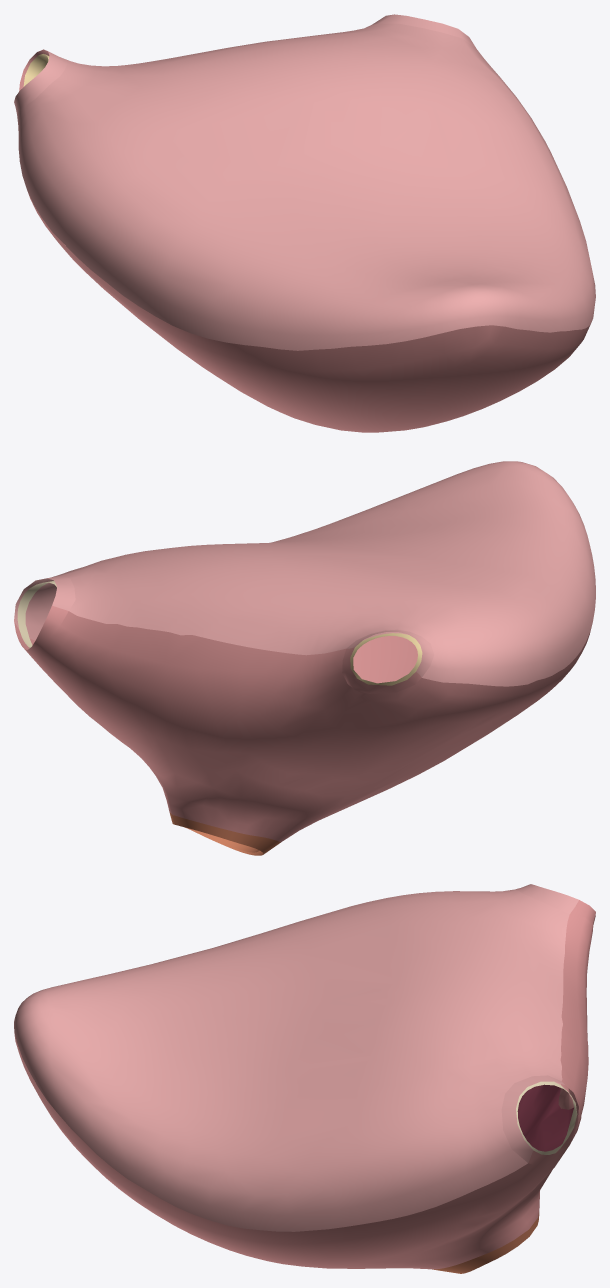
Rendered from bexiga.glb.
The picture shows the model from 3 angles, top to bottom: view 1: azimuth 30°, elevation 25°; view 2: azimuth 150°, elevation 25°; view 3: azimuth 270°, elevation 25°; orthographic projection. The views are drawn at different scales.
Visible parts, largest first — view 1: VH_M_fundus_of_urinary_bladder_dome, VH_M_fundus_of_urinary_bladder_base1; view 2: VH_M_fundus_of_urinary_bladder_dome, VH_M_fundus_of_urinary_bladder_base1, VH_M_urinary_bladder_neck_smooth_muscle, VH_M_ureteral_orifice_R, VH_M_ureteral_orifice_L; view 3: VH_M_fundus_of_urinary_bladder_dome, VH_M_fundus_of_urinary_bladder_base1, VH_M_trigone_of_urinary_bladder, VH_M_urinary_bladder_neck_smooth_muscle, VH_M_ureteral_orifice_L.
Part boxes in pixels (left/top/right/bottom): VH_M_fundus_of_urinary_bladder_dome: left=14, top=14, right=595, bottom=350; VH_M_fundus_of_urinary_bladder_base1: left=18, top=49, right=590, bottom=432; VH_M_fundus_of_urinary_bladder_dome: left=14, top=461, right=595, bottom=686; VH_M_fundus_of_urinary_bladder_base1: left=14, top=605, right=591, bottom=842; VH_M_urinary_bladder_neck_smooth_muscle: left=170, top=813, right=280, bottom=855; VH_M_ureteral_orifice_R: left=350, top=633, right=422, bottom=685; VH_M_ureteral_orifice_L: left=17, top=580, right=56, bottom=648; VH_M_fundus_of_urinary_bladder_dome: left=14, top=884, right=578, bottom=1231; VH_M_fundus_of_urinary_bladder_base1: left=14, top=900, right=595, bottom=1269; VH_M_trigone_of_urinary_bladder: left=517, top=1084, right=573, bottom=1151; VH_M_urinary_bladder_neck_smooth_muscle: left=432, top=1212, right=539, bottom=1273; VH_M_ureteral_orifice_L: left=516, top=1081, right=577, bottom=1154.
Bounding box in the file's own units: 0.0638 × 0.0399 × 0.0723.
